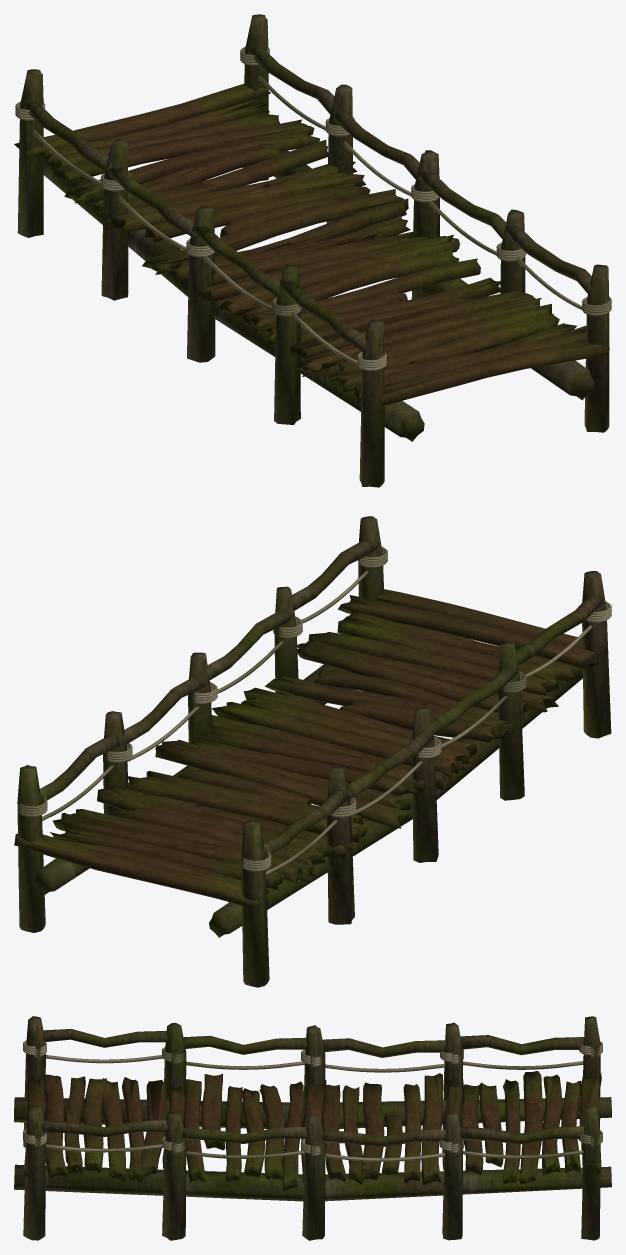
File: RF3_Rotten_Wood_Bridge.fbx
The picture shows the model from 3 angles, top to bottom: view 1: azimuth 30°, elevation 25°; view 2: azimuth 150°, elevation 25°; view 3: azimuth 270°, elevation 25°; orthographic projection. The views are drawn at different scales.
Parts seen in each view (by area): view 1: RF3_Rotten_Wood_Bridge; view 2: RF3_Rotten_Wood_Bridge; view 3: RF3_Rotten_Wood_Bridge.
Part boxes in pixels (x1=…): RF3_Rotten_Wood_Bridge: x1=14, y1=14, x2=611, y2=487; RF3_Rotten_Wood_Bridge: x1=14, y1=516, x2=611, y2=987; RF3_Rotten_Wood_Bridge: x1=14, y1=1016, x2=611, y2=1240.
Bounding box in the file's own units: 470 × 279 × 1162.
